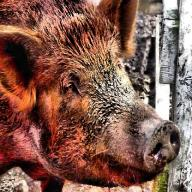boar: (6, 0, 177, 192)
